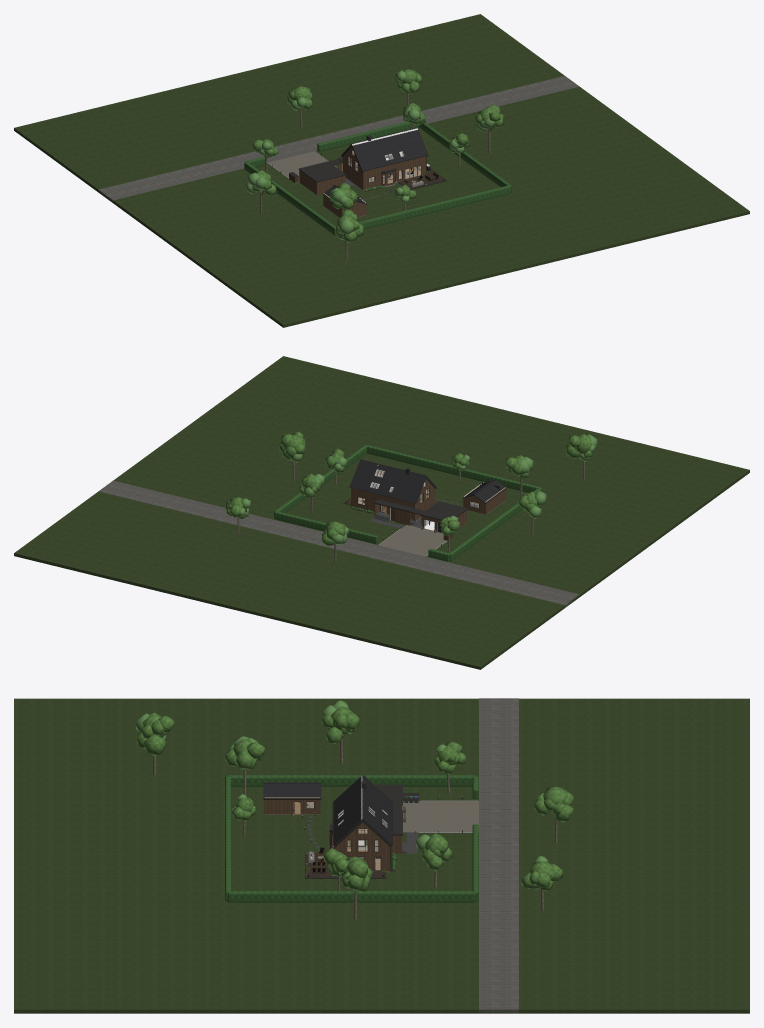
Rendered from eikhus-lett.glb.
3 views of the same model, one above another, from view 1: azimuth 30°, elevation 25°; view 2: azimuth 150°, elevation 25°; view 3: azimuth 270°, elevation 25° (orthographic). The views are drawn at different scales.
Visible parts, largest first — view 1: W Gress.001|19990, W Gress.001|-9980, W Asfalt.001|-9980, W Asfalt.001|20020, W Plannja sort|2, W Gress.001|19950, W Gress.001|-10050, W Hekk|9980, W Plannja sort|10002, W Hekk|10020, W Hekk|-10020, W Kledning brun|0 (+3 smaller); view 2: W Gress.001|-9980, W Gress.001|19990, W Asfalt.001|-9980, W Asfalt.001|20020, W Hekk|9980, W Gress.001|-9940, W Gress.001|20060, W Hekk|-10020, W Hekk|10020, W Grus.001|-9990, W Plannja sort|2, W Grus.001|-9980 (+5 smaller); view 3: W Gress.001|19990, W Gress.001|-9980, W Asfalt.001|20020, W Asfalt.001|-9980, W Gress.001|60020, W Gress.001|59990, W Hekk|20010, W Hekk|19990, W Hekk|-19990, W Hekk|-20010, W Grus.001|-9980, W Grus.001|-9990 (+11 smaller).
Part boxes in pixels (x1,y1,x2,y2): W Gress.001|19990: [283, 14, 749, 324]; W Gress.001|-9980: [14, 14, 480, 324]; W Asfalt.001|-9980: [99, 77, 558, 200]; W Asfalt.001|20020: [118, 76, 579, 199]; W Plannja sort|2: [352, 131, 401, 170]; W Gress.001|19950: [299, 211, 749, 321]; W Gress.001|-10050: [283, 219, 727, 327]; W Hekk|9980: [359, 185, 510, 224]; W Plannja sort|10002: [363, 127, 427, 162]; W Hekk|10020: [318, 122, 418, 151]; W Hekk|-10020: [359, 188, 506, 229]; W Kledning brun|0: [343, 152, 398, 189]; W Gress.001|-9980: [15, 470, 749, 666]; W Gress.001|19990: [14, 356, 749, 553]; W Asfalt.001|-9980: [103, 492, 579, 604]; W Asfalt.001|20020: [99, 480, 575, 593]; W Hekk|9980: [366, 445, 528, 492]; W Gress.001|-9940: [31, 557, 480, 669]; W Gress.001|20060: [14, 553, 455, 663]; W Hekk|-10020: [369, 447, 539, 492]; W Hekk|10020: [275, 511, 376, 543]; W Grus.001|-9990: [379, 525, 443, 545]; W Plannja sort|2: [376, 463, 425, 496]; W Grus.001|-9980: [379, 537, 446, 556]; W Gress.001|19990: [14, 698, 749, 1009]; W Gress.001|-9980: [15, 698, 749, 1009]; W Asfalt.001|20020: [479, 700, 518, 1009]; W Asfalt.001|-9980: [479, 698, 518, 1006]; W Gress.001|60020: [61, 1009, 749, 1013]; W Gress.001|59990: [14, 1009, 743, 1013]; W Hekk|20010: [234, 891, 474, 902]; W Hekk|19990: [229, 891, 474, 902]; W Hekk|-19990: [232, 775, 474, 786]; W Hekk|-20010: [229, 775, 472, 786]; W Grus.001|-9980: [403, 801, 478, 831]; W Grus.001|-9990: [402, 802, 472, 832].
Size of the model in its own units: 110 by 11.07 by 110.
Materials: 200 (142 with a texture image).
